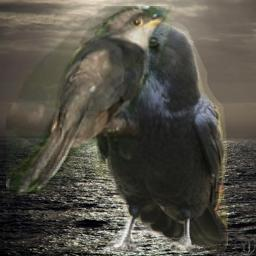Crow: (93, 22, 228, 253)
Cuckoo: (6, 6, 172, 199)
